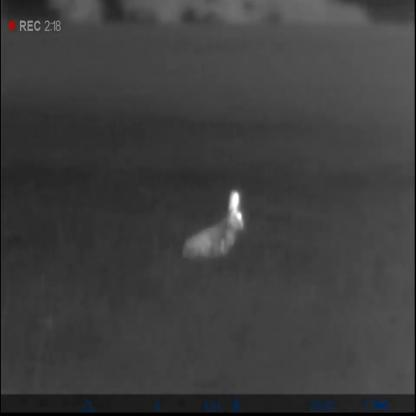rehkitze: (184, 185, 251, 266)
